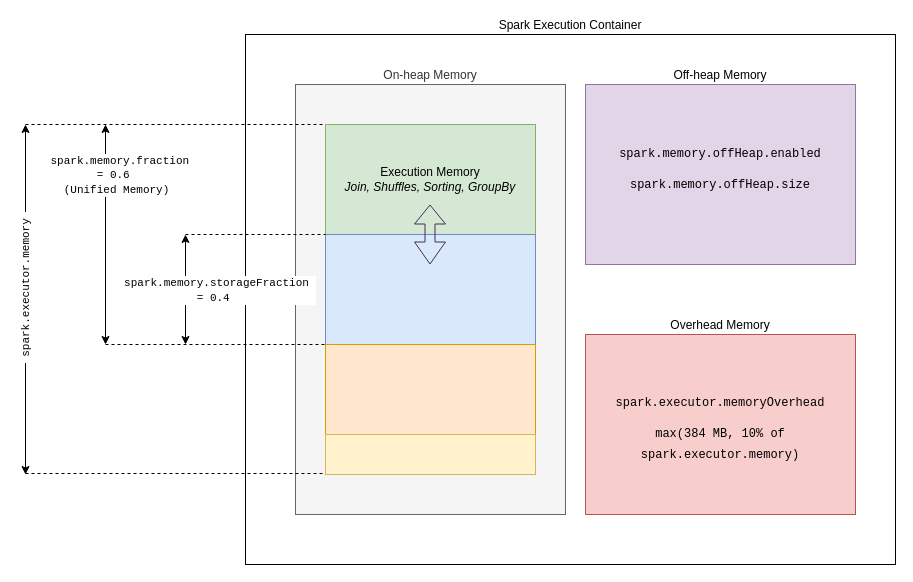
This 913x582 diagram has some shape labels left out. The centre of each missing label's shape, as x and y in pixels:
"Reserved Memory 300 MB" goes at point 430,454.
"Storage Memory RDD, Dataframe Caching, Broadcast Variables" goes at point 430,289.
"User Memory User Defined Variables, Data Structures and Objects" goes at point 430,389.
